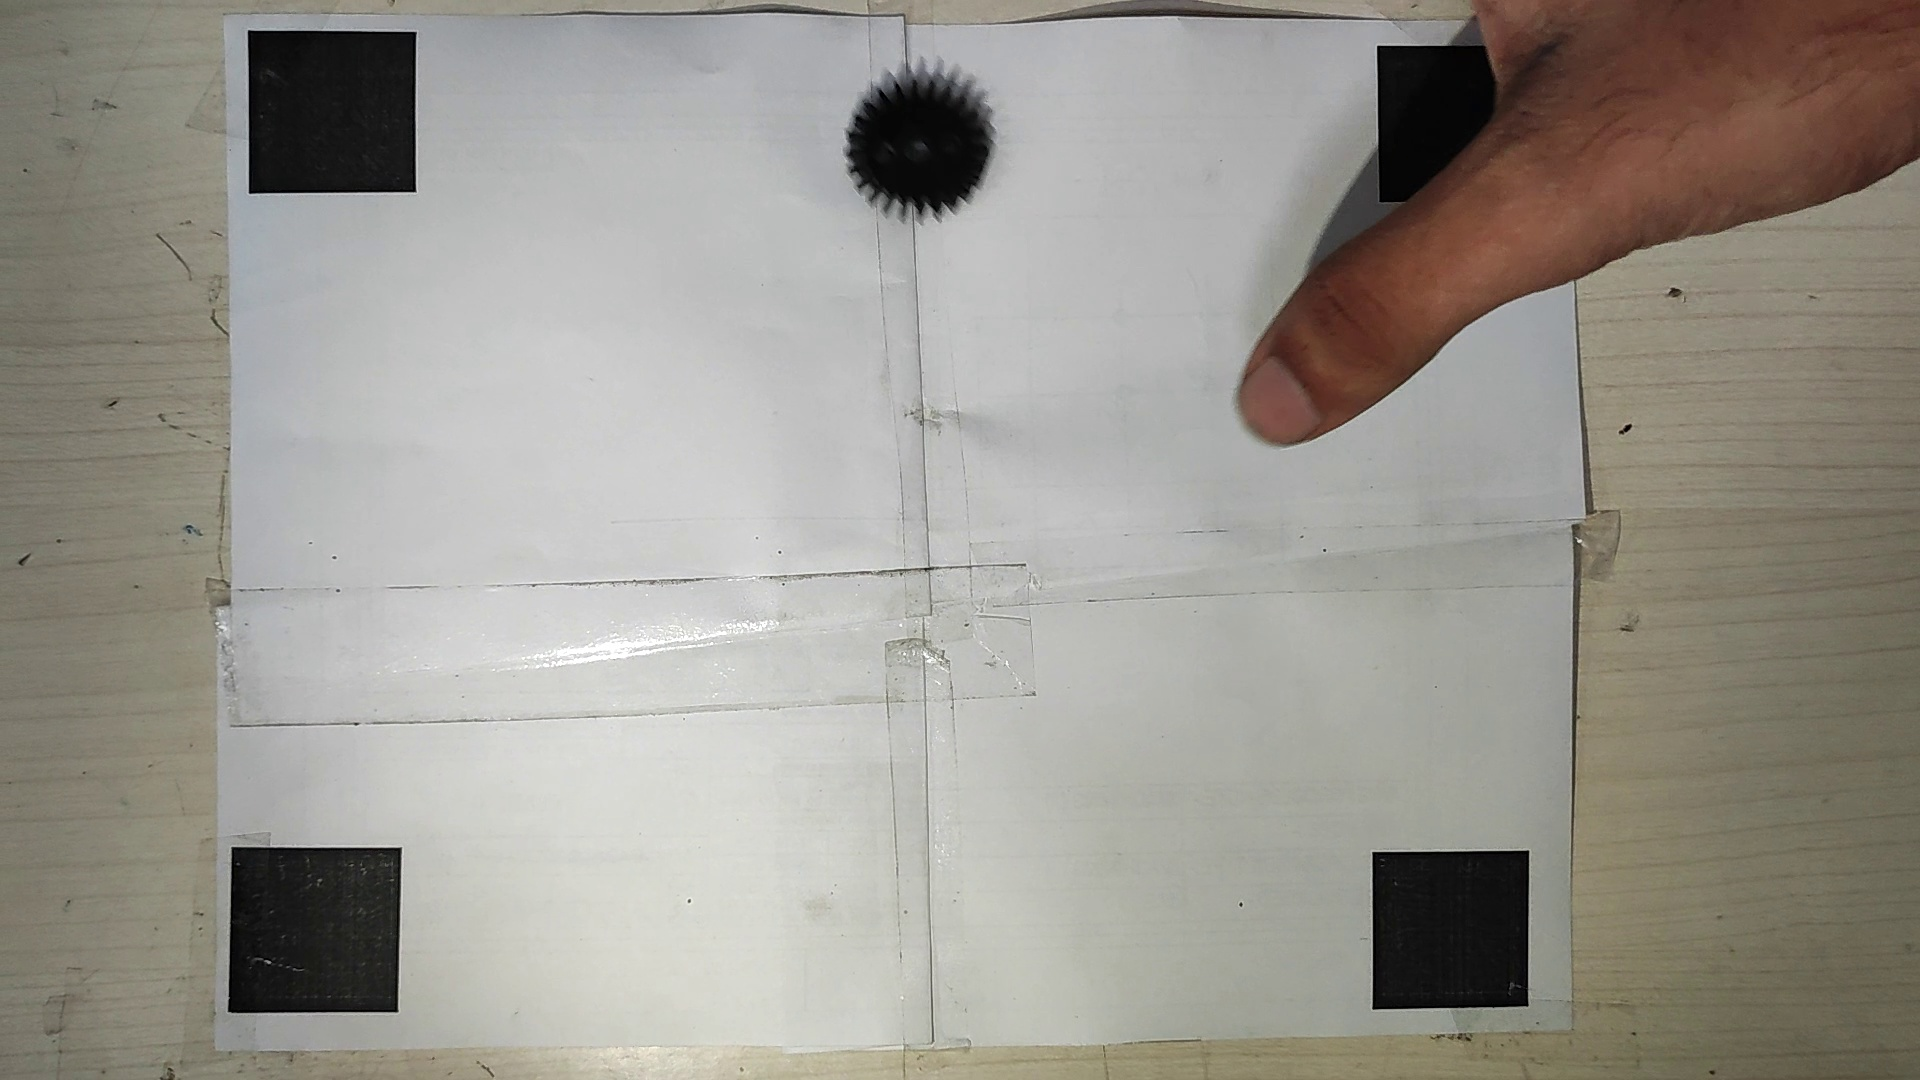Gear: (840, 73, 1002, 222)
